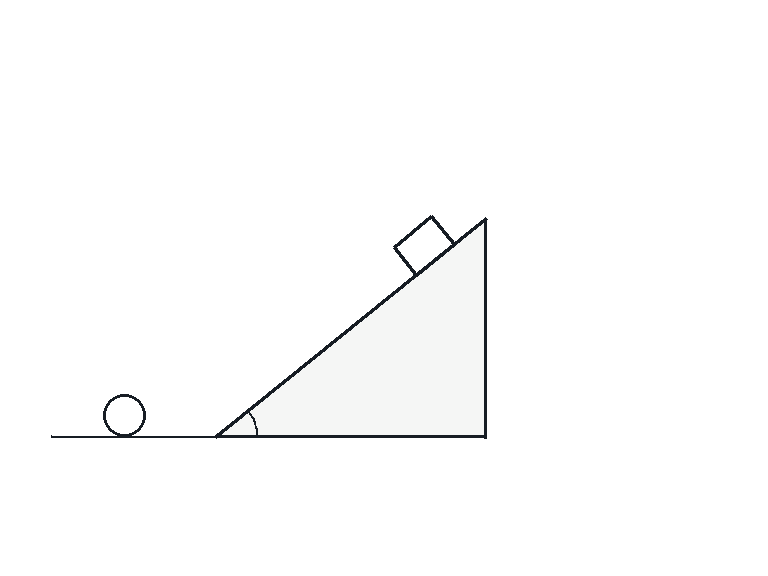ball: (101, 392, 147, 438)
block: (391, 215, 456, 277)
ramp: (215, 217, 487, 438)
